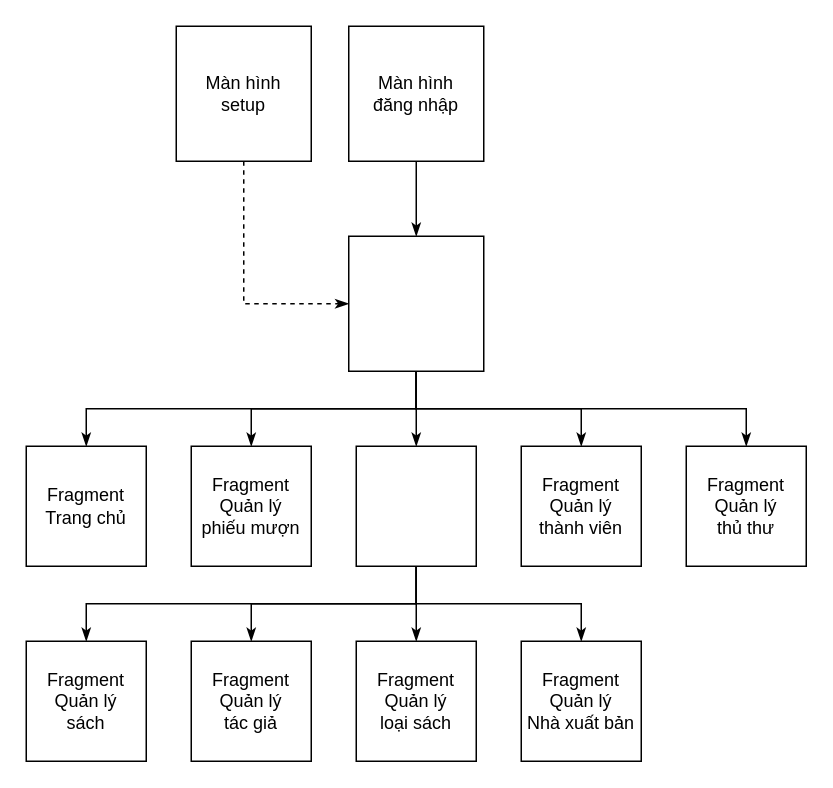
This 833x788 diagram has some shape labels left out. Here are the shapes that lost their labels. From the top down, the centre of each, then its label:
[415,303]: Màn hình chính
[415,505]: Fragment Quản lý thư viện
